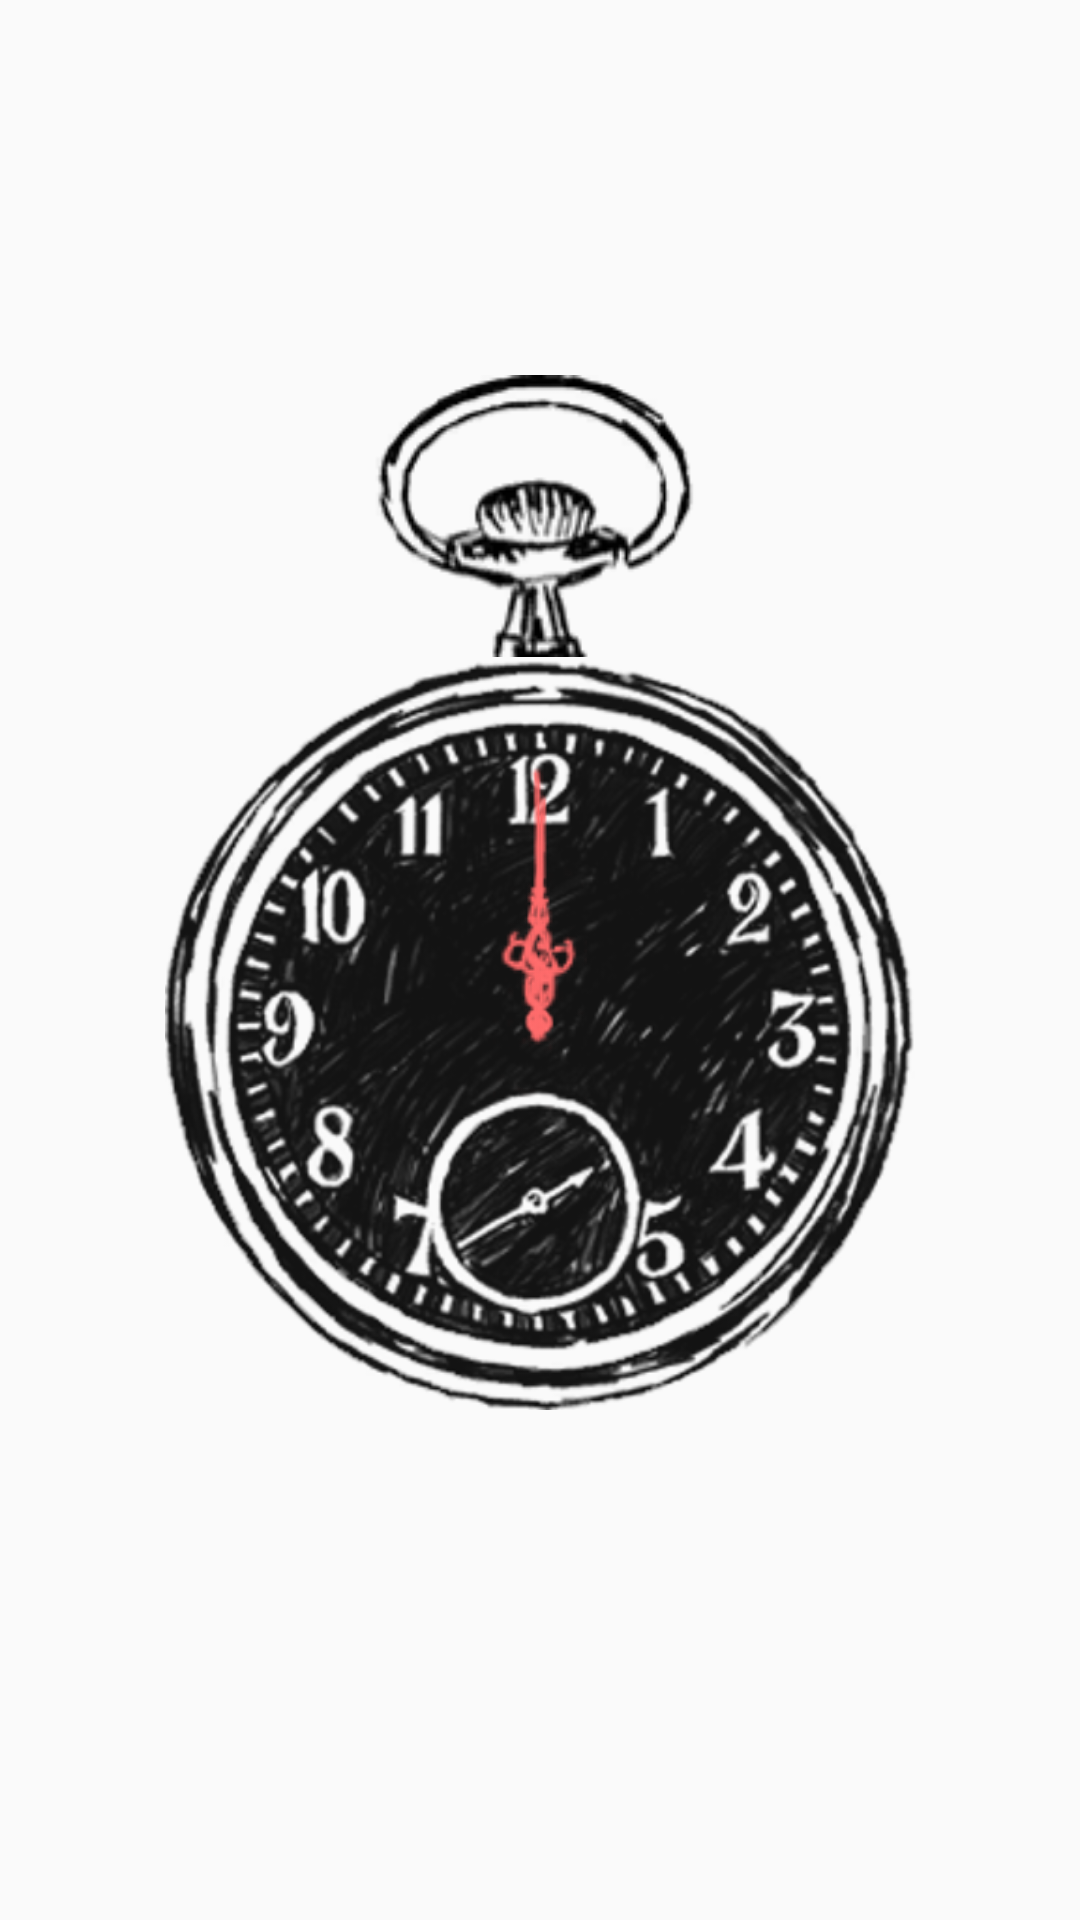

Named icons in this screenshot (1080 × 1920) and their bounding boxes, (x1, y1, x2, y2):
clocktop: (378, 375, 692, 657)
